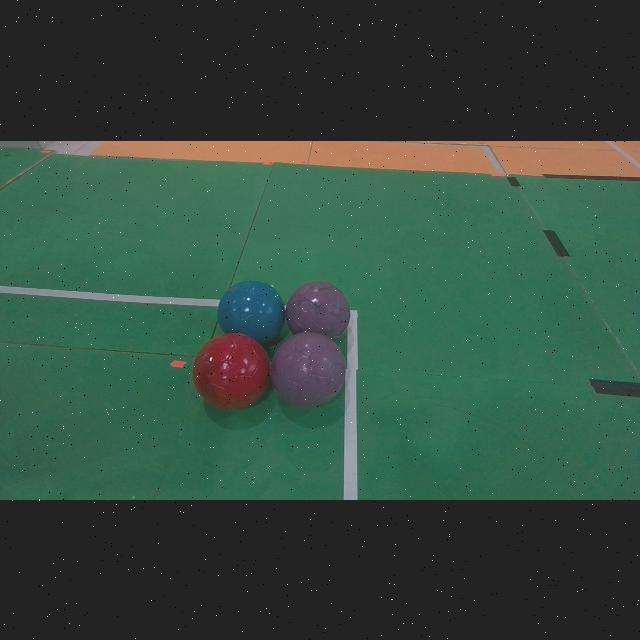B: (217, 280, 284, 343)
P: (270, 332, 345, 407), (286, 280, 350, 338)
R: (192, 332, 270, 409)
